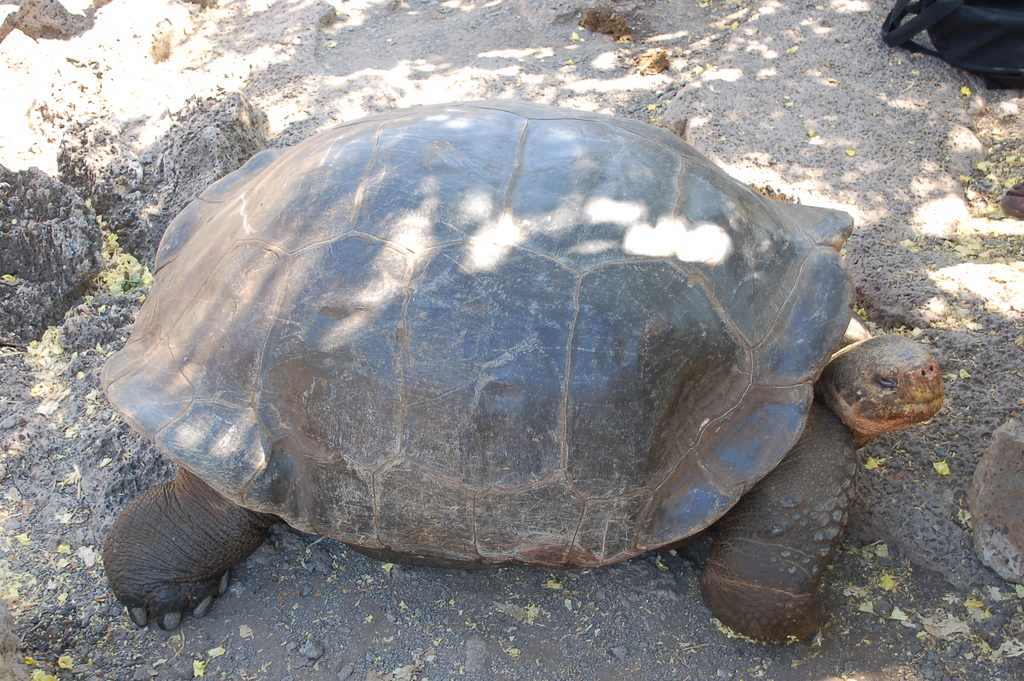Sea turtles: (102, 98, 943, 643)
